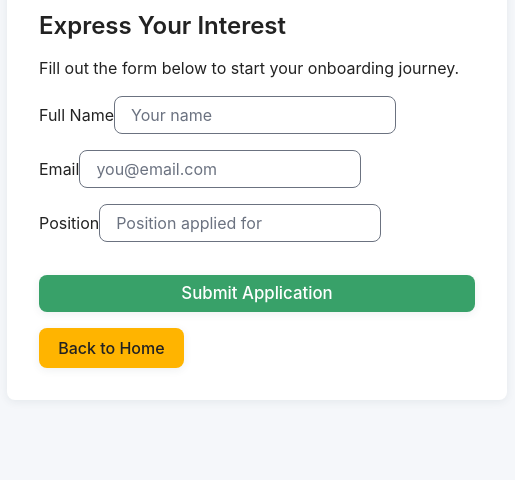
Test: InterestForm component › shows error banner for duplicate email
The width and height of the screenshot is (515, 480).
Type "Jane Smith" into the field with placeholder "Your name" at coordinates (255, 115), box left=114, top=96, right=396, bottom=134
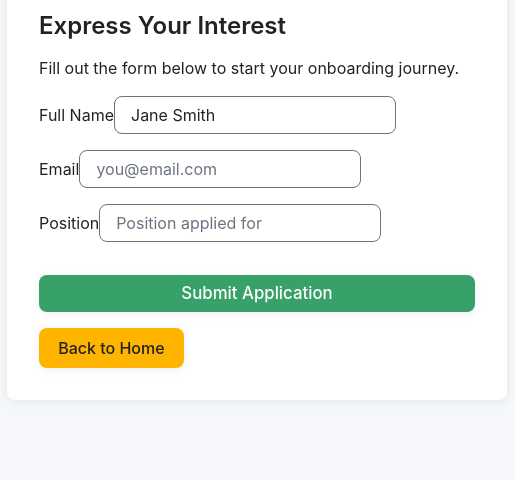
Type "jane@example.com" into the field with placeholder "you@email.com" at coordinates (220, 169), box left=79, top=150, right=361, bottom=188
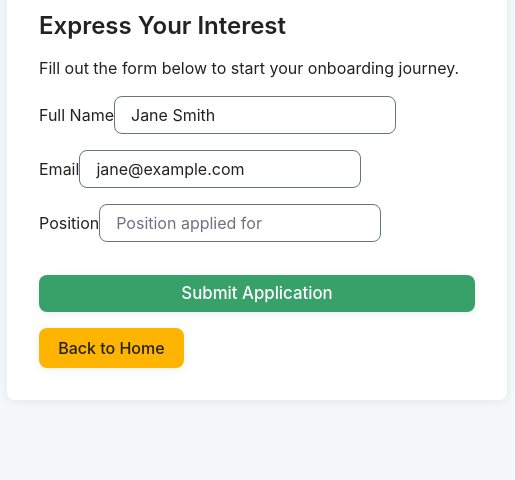
Type "Designer" into the field with placeholder "Position applied for" at coordinates (240, 223), box left=99, top=204, right=381, bottom=242
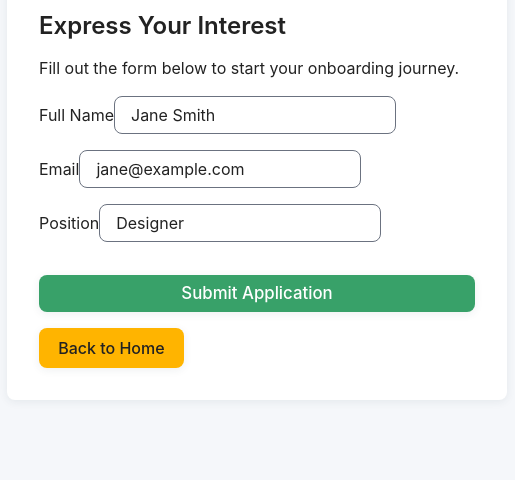
Click the button "Submit Application" at coordinates (257, 293), box left=39, top=275, right=475, bottom=312
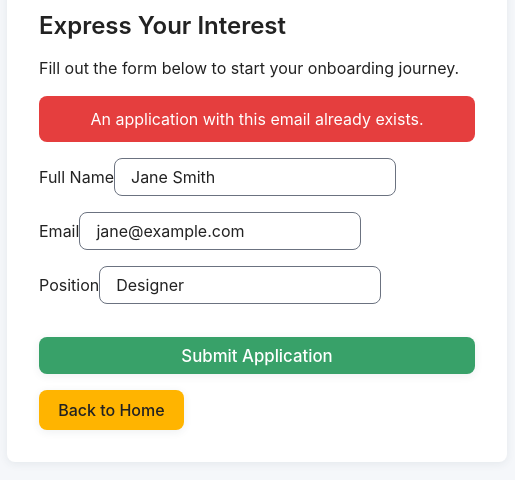
Check: the text "An application with this email already exists." is shown, box left=39, top=96, right=475, bottom=142
